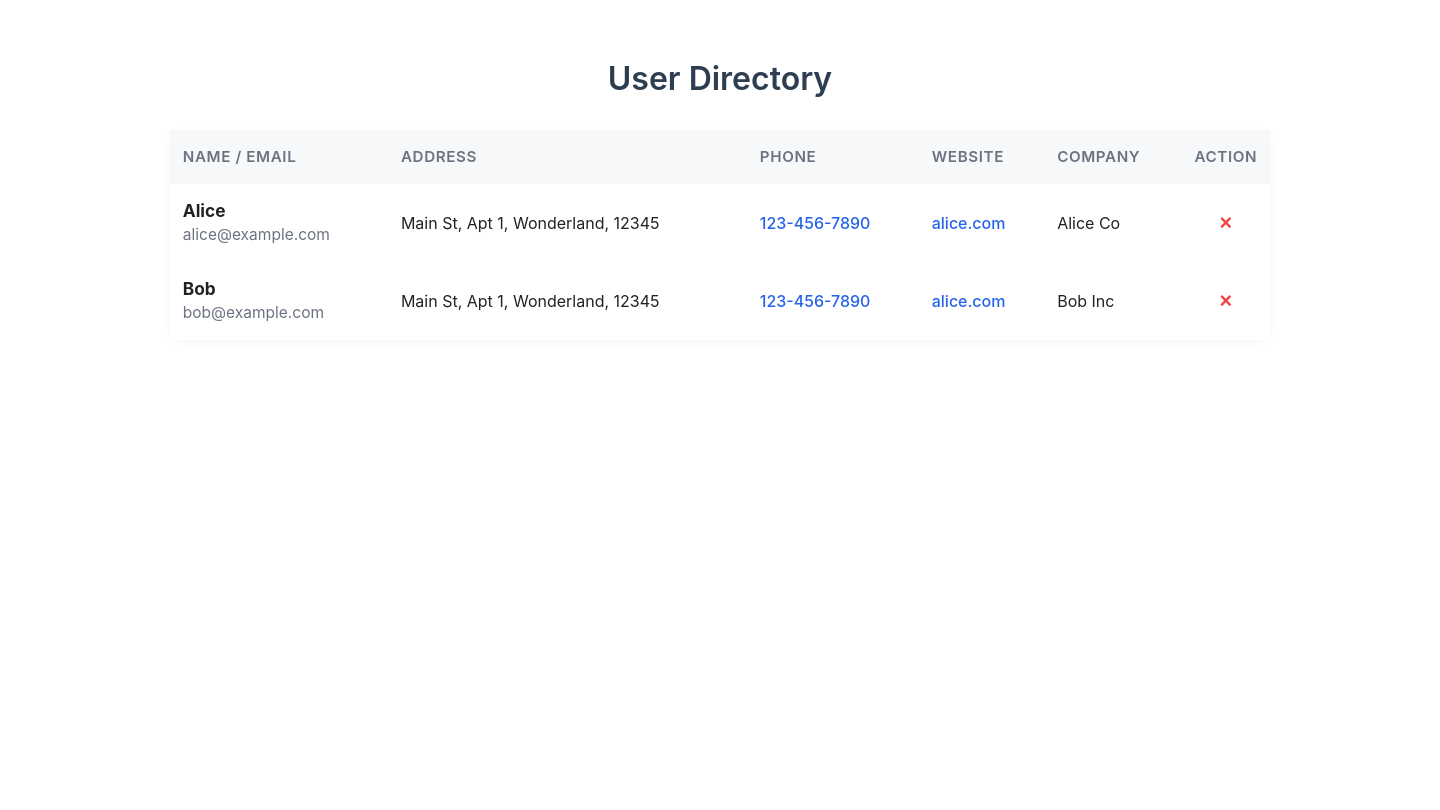
Test: UserList › opens modal when a user row is clicked
Click the text "Alice" at {"x": 204, "y": 211}, box [170,184,1270,262]
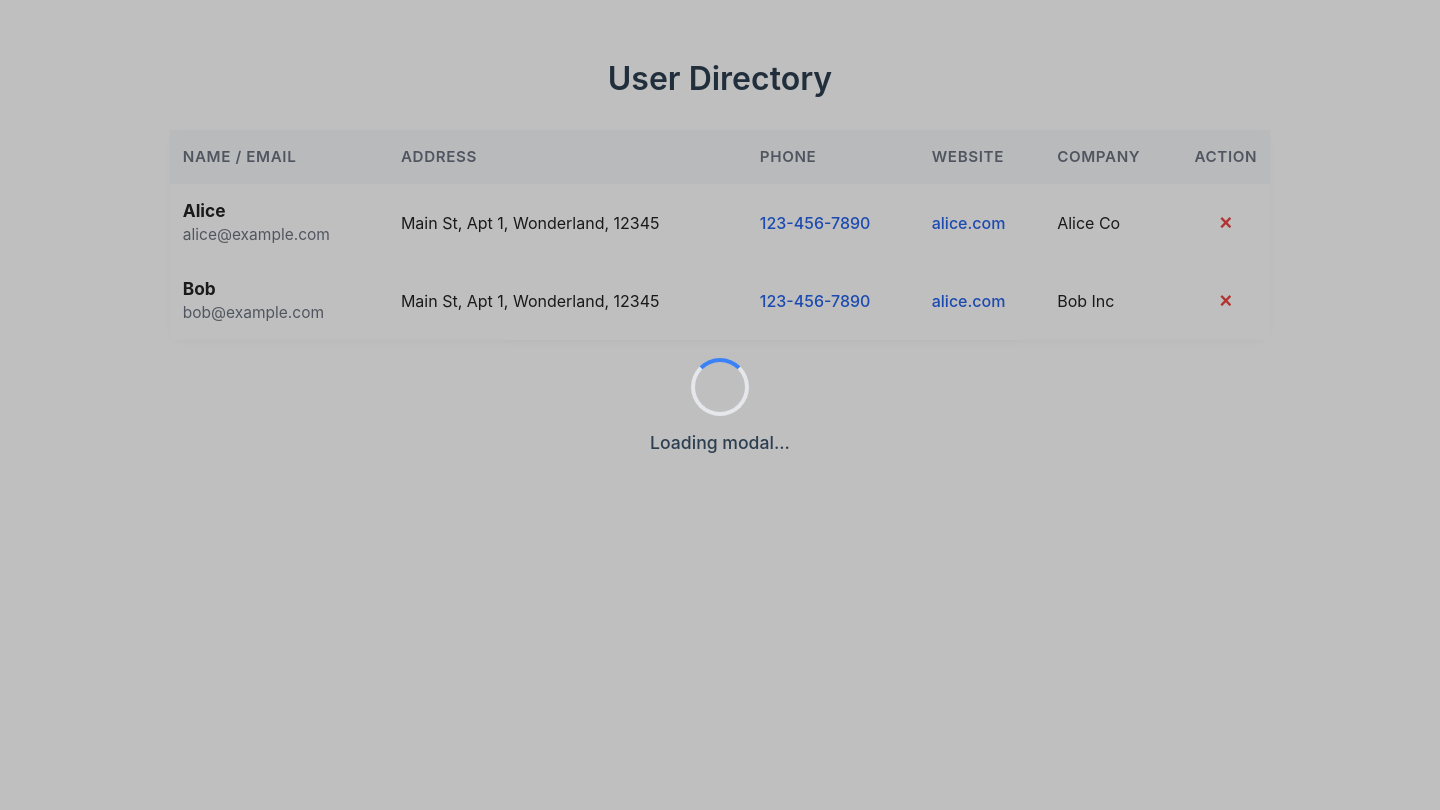
Expected: the text "Loading modal..." is shown, [650,432,790,452]
